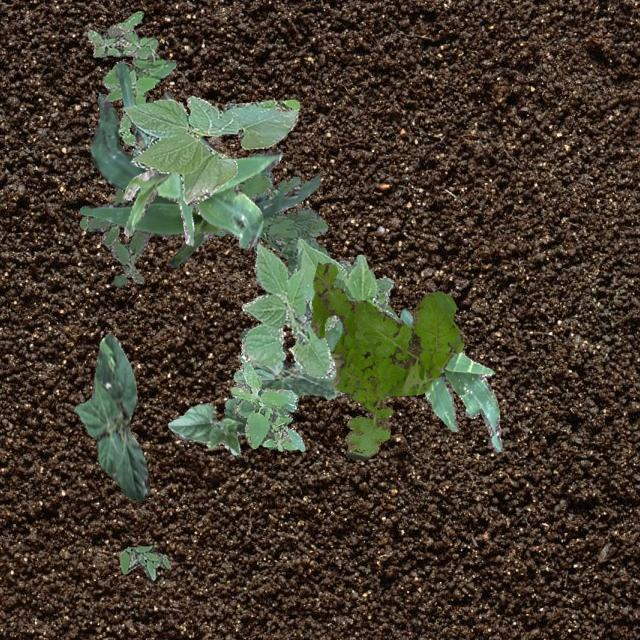crop: (78, 90, 320, 266), (114, 61, 282, 248), (240, 236, 394, 376), (122, 94, 298, 206), (400, 308, 500, 450), (72, 332, 150, 499), (232, 326, 338, 396), (167, 396, 246, 454)
weed: (215, 152, 392, 398), (310, 262, 462, 459), (86, 10, 176, 154), (78, 186, 148, 286), (230, 360, 304, 450), (118, 544, 170, 578), (368, 268, 400, 322)
